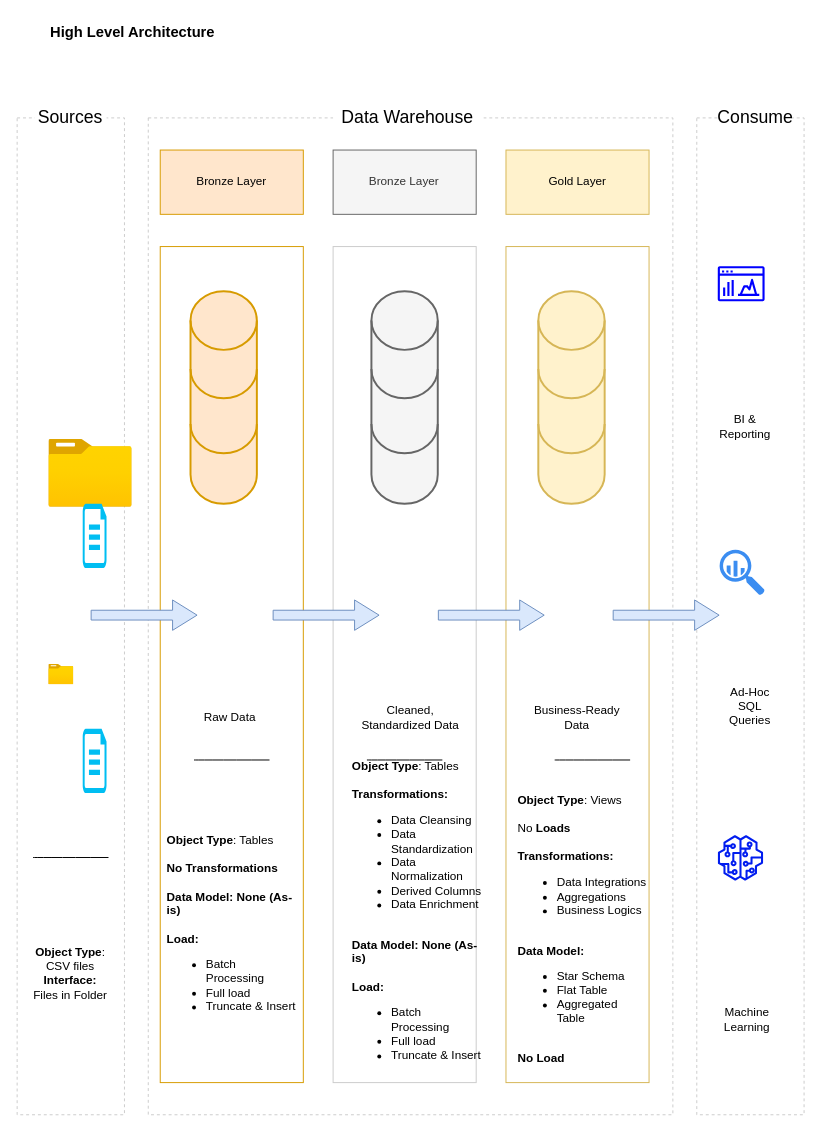
This 821x1132 diagram has some shape labels left out. Each missing label, with the centre of its shape:
"CRM" goes at pixel 90 473.
"ERP" goes at pixel 60 674.
